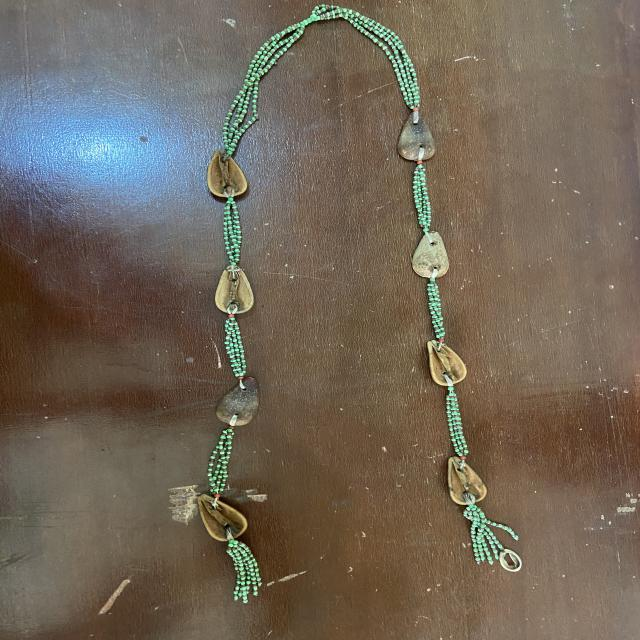facedown: (209, 375, 269, 429), (391, 108, 439, 164), (407, 228, 455, 284)
faceup: (209, 261, 262, 320), (192, 495, 257, 543), (443, 455, 495, 506), (202, 147, 250, 202), (423, 336, 471, 386)
